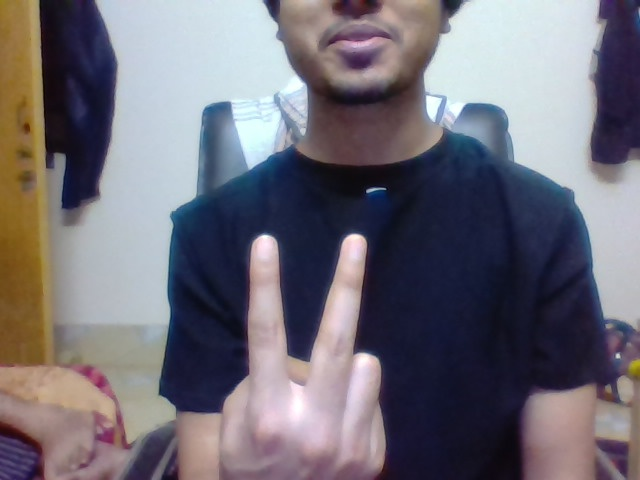V: (245, 226, 373, 376)
